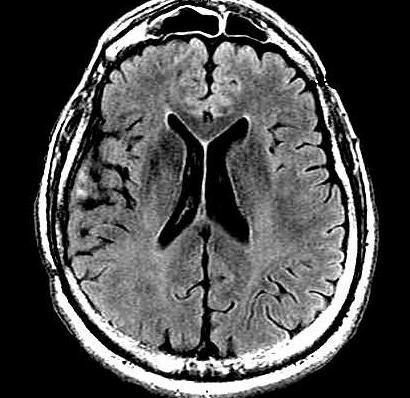Normal_Brain: (8, 1, 405, 398)
